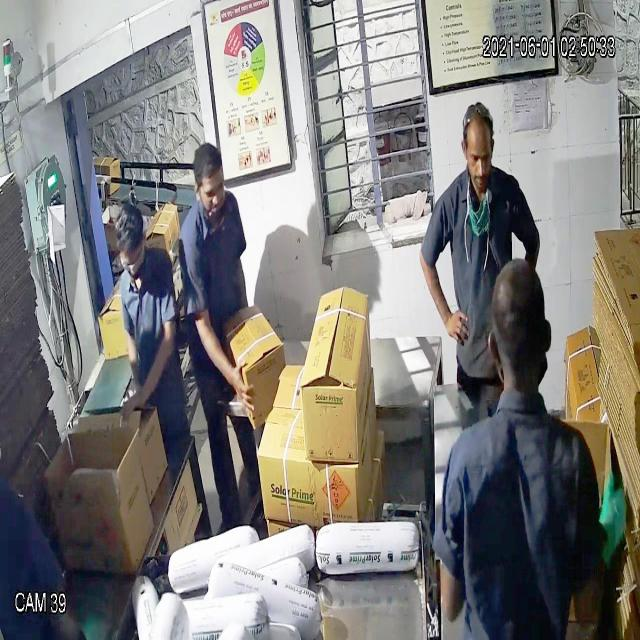glasses: (115, 243, 148, 277)
no-glass: (458, 134, 498, 177)
